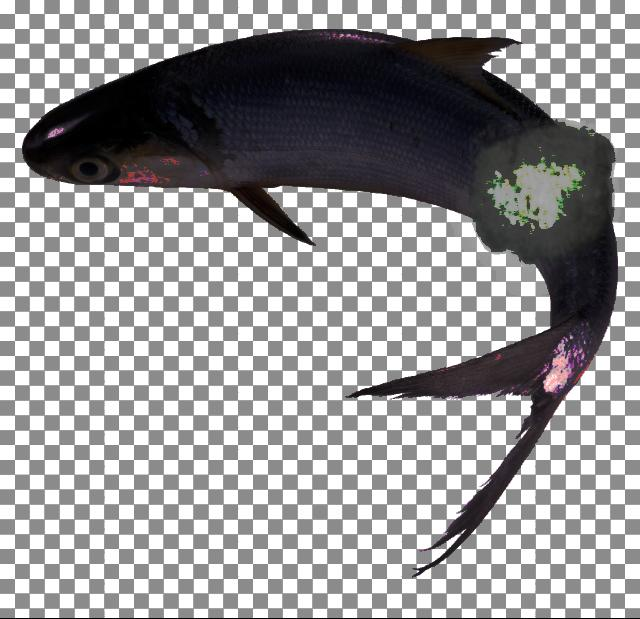Fungal Disease -Saprolegniasis-: (23, 30, 617, 575), (23, 30, 617, 573), (24, 30, 616, 572)
